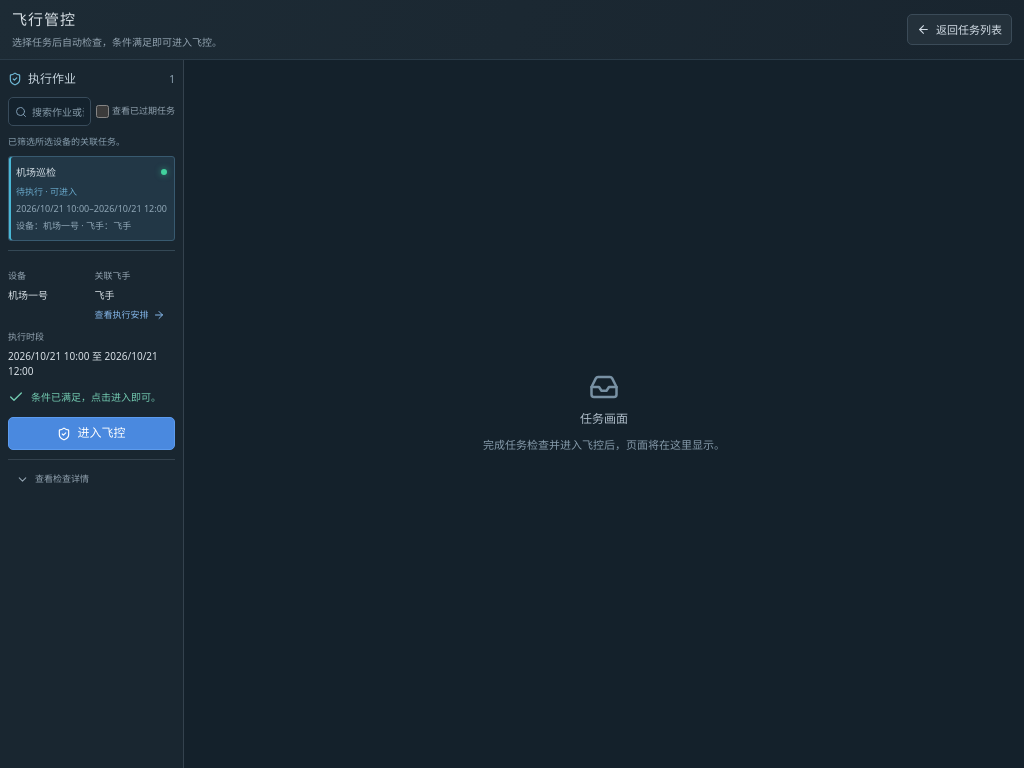
Test case: task-gated native flight workspace › only accepts readiness from the configured origin and exact iframe window
The image size is (1024, 768).
Click the button "进入飞控".
click(92, 434)  # box top-left (8, 417), bottom-right (175, 450)
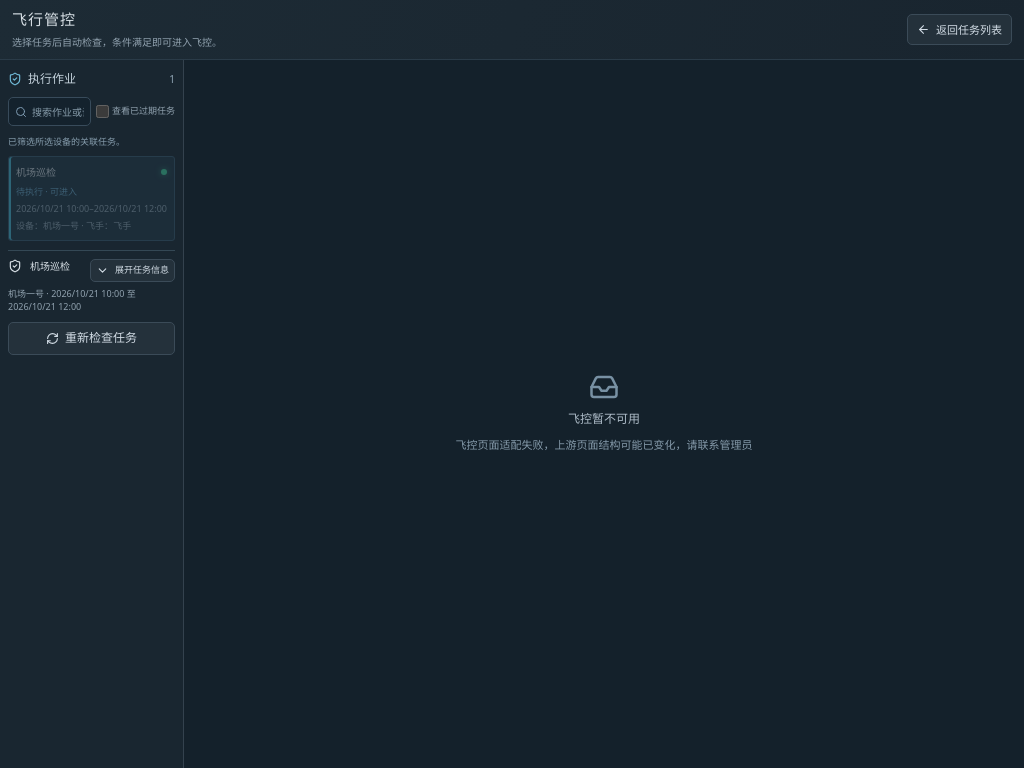
Now the text "飞控页面适配失败，上游页面结构可能已变化，请联系管理员" is shown, box top-left (456, 435), bottom-right (752, 456)
